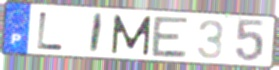3: (196, 19, 225, 60)
5: (234, 19, 267, 65)
E: (149, 15, 191, 60)
I: (87, 11, 106, 55)
L: (35, 10, 66, 52)
M: (110, 13, 153, 57)
